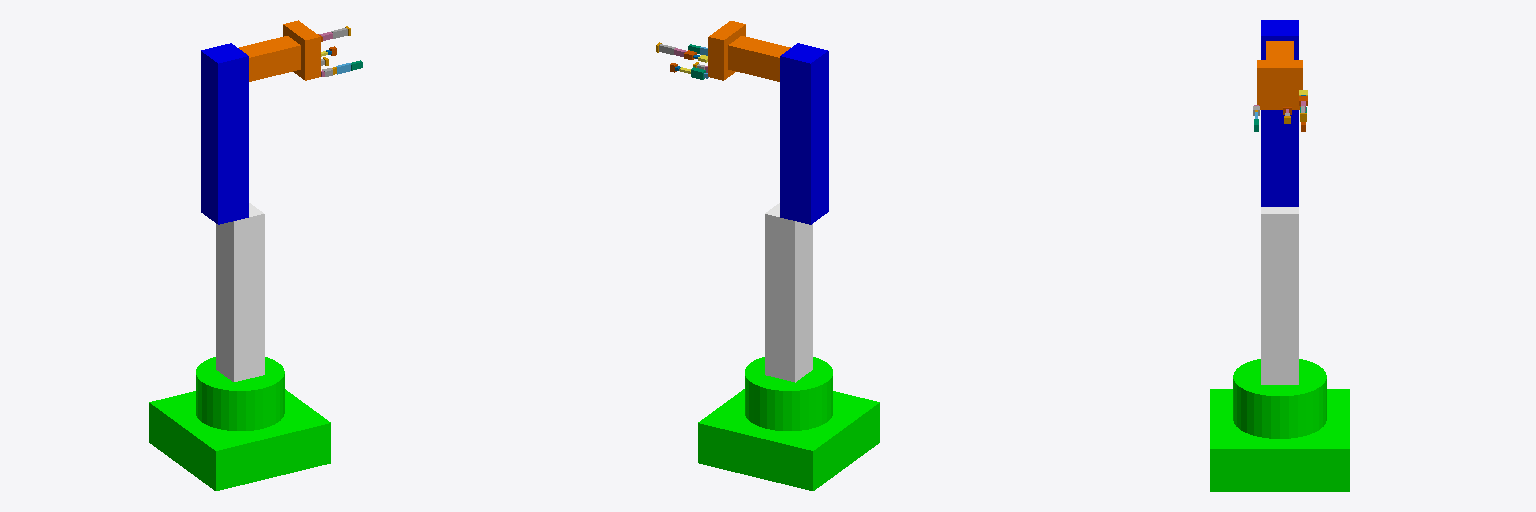
URDF robot description (robot):
<?xml version='1.0' encoding='utf-8'?>
<robot name="robot">
  <link name="base_link">
    <visual>
      <origin xyz="0 0 0.125" rpy="0 0 0" />
      <geometry>
        <box size="0.75 0.75 0.25" />
      </geometry>
      <material name="green" />
    </visual>
    <visual>
      <origin xyz="0 0 0.375" rpy="0 0 0" />
      <geometry>
        <cylinder length="0.25" radius="0.25" />
      </geometry>
      <material name="green">
        <color rgba="0 1 0 1" />
      </material>
    </visual>
    <collision>
      <geometry>
        <box size="0.75 0.75 0.5" />
      </geometry>
    </collision>
    <inertial>
      <mass value="0.5" />
      <inertia ixx="0.034" ixy="0.0" ixz="0.0" iyy="0.034" iyz="0.0" izz="0.034" />
    </inertial>
  </link>
  <link name="support_link">
    <visual>
      <origin xyz="0 0 0.5" rpy="0 0 0" />
      <geometry>
        <box size="0.2 0.2 1" />
      </geometry>
      <material name="white">
        <color rgba="1 1 1 1" />
      </material>
    </visual>
    <collision>
      <geometry>
        <box size="0.2 0.2 1" />
      </geometry>
    </collision>
    <inertial>
      <mass value="0.1" />
      <inertia ixx="0.01" ixy="0.0" ixz="0.0" iyy="0.01" iyz="0.0" izz="0.01" />
    </inertial>
  </link>
  <joint name="support_joint" type="continuous">
    <origin xyz="0 0 0.5" rpy="0 0 0" />
    <parent link="base_link" />
    <child link="support_link" />
    <axis xyz="0 0 1" />
  </joint>
  <link name="arm_link">
    <visual>
      <origin xyz="0 0 0.5" rpy="0 0 0" />
      <geometry>
        <box size="0.2 0.2 1" />
      </geometry>
      <material name="blue">
        <color rgba="0 0 1 1" />
      </material>
    </visual>
    <collision>
      <geometry>
        <box size="0.2 0.2 1" />
      </geometry>
    </collision>
    <inertial>
      <mass value="0.1" />
      <inertia ixx="0.01" ixy="0.0" ixz="0.0" iyy="0.01" iyz="0.0" izz="0.01" />
    </inertial>
  </link>
  <joint name="arm_joint" type="revolute">
    <origin xyz="-0.1 0 1" rpy="0 0 0" />
    <parent link="support_link" />
    <child link="arm_link" />
    <axis xyz="0 1 0" />
    <limit lower="-3.14" upper="3.14" effort="1.0" velocity="1.0" />
  </joint>
  <link name="wrist_link">
    <visual>
      <origin xyz="0 0 0.25" rpy="0 0 0" />
      <geometry>
        <box size="0.15 0.15 0.5" />
      </geometry>
      <material name="orange">
        <color rgba="1 0.5 0 1" />
      </material>
    </visual>
    <collision>
      <geometry>
        <box size="0.15 0.15 0.5" />
      </geometry>
    </collision>
    <inertial>
      <mass value="0.1" />
      <inertia ixx="0.01" ixy="0.0" ixz="0.0" iyy="0.01" iyz="0.0" izz="0.01" />
    </inertial>
  </link>
  <joint name="wrist_joint" type="fixed">
    <origin xyz="0 0 0.9" rpy="0 1.571 0" />
    <parent link="arm_link" />
    <child link="wrist_link" />
  </joint>
  <link name="palm_link">
    <visual>
      <origin xyz="0 0 0.05" rpy="0 0 0" />
      <geometry>
        <box size="0.25 0.25 0.1" />
      </geometry>
      <material name="orange" />
    </visual>
    <collision>
      <geometry>
        <box size="0.25 0.25 0.1" />
      </geometry>
    </collision>
    <inertial>
      <mass value="0.1" />
      <inertia ixx="0.01" ixy="0.0" ixz="0.0" iyy="0.01" iyz="0.0" izz="0.01" />
    </inertial>
  </link>
  <joint name="palm_joint" type="fixed">
    <origin xyz="0 0 0.45" rpy="0 0 0" />
    <parent link="wrist_link" />
    <child link="palm_link" />
  </joint>
  <link name="finger_link_0_0">
    <visual>
      <origin xyz="0 0 0.009" rpy="0 0 0" />
      <geometry>
        <box size="0.042 0.043 0.018" />
      </geometry>
    </visual>
    <collision>
      <geometry>
        <box size="0.042 0.043 0.018" />
      </geometry>
    </collision>
    <inertial>
      <mass value="0.01" />
      <inertia ixx="0.0" iyy="0.0" izz="0.0" ixy="0" ixz="0" iyz="0" />
    </inertial>
  </link>
  <joint name="finger_joint_palm_link_to_finger_link_0_0" type="revolute">
    <origin xyz="0.125 0.04 0.1" rpy="0 0 0" />
    <parent link="palm_link" />
    <child link="finger_link_0_0" />
    <axis xyz="0.0 1.0 0.0" />
    <limit lower="-3.142" upper="3.142" effort="10" velocity="10" />
  </joint>
  <link name="finger_link_0_1">
    <visual>
      <origin xyz="0 0 0.0255" rpy="0 0 0" />
      <geometry>
        <box size="0.037 0.016 0.051" />
      </geometry>
    </visual>
    <collision>
      <geometry>
        <box size="0.037 0.016 0.051" />
      </geometry>
    </collision>
    <inertial>
      <mass value="0.009" />
      <inertia ixx="0.0" iyy="0.0" izz="0.0" ixy="0" ixz="0" iyz="0" />
    </inertial>
  </link>
  <joint name="finger_joint_finger_link_0_0_to_finger_link_0_1" type="revolute">
    <origin xyz="0.0 0.0 0.018" rpy="0 0 0" />
    <parent link="finger_link_0_0" />
    <child link="finger_link_0_1" />
    <axis xyz="1.0 0.0 0.0" />
    <limit lower="-3.142" upper="3.142" effort="10" velocity="10" />
  </joint>
  <link name="finger_link_0_2">
    <visual>
      <origin xyz="0 0 0.025" rpy="0 0 0" />
      <geometry>
        <box size="0.029 0.022 0.05" />
      </geometry>
    </visual>
    <collision>
      <geometry>
        <box size="0.029 0.022 0.05" />
      </geometry>
    </collision>
    <inertial>
      <mass value="0.01" />
      <inertia ixx="0.0" iyy="0.0" izz="0.0" ixy="0" ixz="0" iyz="0" />
    </inertial>
  </link>
  <joint name="finger_joint_finger_link_0_1_to_finger_link_0_2" type="revolute">
    <origin xyz="0.0 0.0 0.051" rpy="0 0 0" />
    <parent link="finger_link_0_1" />
    <child link="finger_link_0_2" />
    <axis xyz="1.0 0.0 0.0" />
    <limit lower="-3.142" upper="3.142" effort="10" velocity="10" />
  </joint>
  <link name="finger_link_0_3">
    <visual>
      <origin xyz="0 0 0.0085" rpy="0 0 0" />
      <geometry>
        <box size="0.039 0.039 0.017" />
      </geometry>
    </visual>
    <collision>
      <geometry>
        <box size="0.039 0.039 0.017" />
      </geometry>
    </collision>
    <inertial>
      <mass value="0.008" />
      <inertia ixx="0.0" iyy="0.0" izz="0.0" ixy="0" ixz="0" iyz="0" />
    </inertial>
  </link>
  <joint name="finger_joint_finger_link_0_2_to_finger_link_0_3" type="revolute">
    <origin xyz="0.0 0.0 0.05" rpy="0 0 0" />
    <parent link="finger_link_0_2" />
    <child link="finger_link_0_3" />
    <axis xyz="1.0 0.0 0.0" />
    <limit lower="-3.142" upper="3.142" effort="10" velocity="10" />
  </joint>
  <link name="finger_link_1_0">
    <visual>
      <origin xyz="0 0 0.0125" rpy="0 0 0" />
      <geometry>
        <box size="0.027 0.017 0.025" />
      </geometry>
    </visual>
    <collision>
      <geometry>
        <box size="0.027 0.017 0.025" />
      </geometry>
    </collision>
    <inertial>
      <mass value="0.003" />
      <inertia ixx="0.0" iyy="0.0" izz="0.0" ixy="0" ixz="0" iyz="0" />
    </inertial>
  </link>
  <joint name="finger_joint_palm_link_to_finger_link_1_0" type="revolute">
    <origin xyz="0.119 0.125 0.1" rpy="0 0 0" />
    <parent link="palm_link" />
    <child link="finger_link_1_0" />
    <axis xyz="-1.0 0.0 0.0" />
    <limit lower="-3.142" upper="3.142" effort="10" velocity="10" />
  </joint>
  <link name="finger_link_1_1">
    <visual>
      <origin xyz="0 0 0.04" rpy="0 0 0" />
      <geometry>
        <box size="0.047 0.038 0.08" />
      </geometry>
    </visual>
    <collision>
      <geometry>
        <box size="0.047 0.038 0.08" />
      </geometry>
    </collision>
    <inertial>
      <mass value="0.043" />
      <inertia ixx="0.0" iyy="0.0" izz="0.0" ixy="0" ixz="0" iyz="0" />
    </inertial>
  </link>
  <joint name="finger_joint_finger_link_1_0_to_finger_link_1_1" type="revolute">
    <origin xyz="0.0 0.0 0.025" rpy="0 0 0" />
    <parent link="finger_link_1_0" />
    <child link="finger_link_1_1" />
    <axis xyz="0.0 1.0 0.0" />
    <limit lower="-3.142" upper="3.142" effort="10" velocity="10" />
  </joint>
  <link name="finger_link_1_2">
    <visual>
      <origin xyz="0 0 0.039" rpy="0 0 0" />
      <geometry>
        <box size="0.015 0.027 0.078" />
      </geometry>
    </visual>
    <collision>
      <geometry>
        <box size="0.015 0.027 0.078" />
      </geometry>
    </collision>
    <inertial>
      <mass value="0.009" />
      <inertia ixx="0.0" iyy="0.0" izz="0.0" ixy="0" ixz="0" iyz="0" />
    </inertial>
  </link>
  <joint name="finger_joint_finger_link_1_1_to_finger_link_1_2" type="revolute">
    <origin xyz="0.0 0.0 0.08" rpy="0 0 0" />
    <parent link="finger_link_1_1" />
    <child link="finger_link_1_2" />
    <axis xyz="1.0 0.0 0.0" />
    <limit lower="-3.142" upper="3.142" effort="10" velocity="10" />
  </joint>
  <link name="finger_link_1_3">
    <visual>
      <origin xyz="0 0 0.0125" rpy="0 0 0" />
      <geometry>
        <box size="0.018 0.027 0.025" />
      </geometry>
    </visual>
    <collision>
      <geometry>
        <box size="0.018 0.027 0.025" />
      </geometry>
    </collision>
    <inertial>
      <mass value="0.004" />
      <inertia ixx="0.0" iyy="0.0" izz="0.0" ixy="0" ixz="0" iyz="0" />
    </inertial>
  </link>
  <joint name="finger_joint_finger_link_1_2_to_finger_link_1_3" type="revolute">
    <origin xyz="0.0 0.0 0.078" rpy="0 0 0" />
    <parent link="finger_link_1_2" />
    <child link="finger_link_1_3" />
    <axis xyz="1.0 0.0 0.0" />
    <limit lower="-3.142" upper="3.142" effort="10" velocity="10" />
  </joint>
  <link name="finger_link_1_4">
    <visual>
      <origin xyz="0 0 0.0175" rpy="0 0 0" />
      <geometry>
        <box size="0.043 0.028 0.035" />
      </geometry>
    </visual>
    <collision>
      <geometry>
        <box size="0.043 0.028 0.035" />
      </geometry>
    </collision>
    <inertial>
      <mass value="0.013" />
      <inertia ixx="0.0" iyy="0.0" izz="0.0" ixy="0" ixz="0" iyz="0" />
    </inertial>
  </link>
  <joint name="finger_joint_finger_link_1_3_to_finger_link_1_4" type="revolute">
    <origin xyz="0.0 0.0 0.025" rpy="0 0 0" />
    <parent link="finger_link_1_3" />
    <child link="finger_link_1_4" />
    <axis xyz="0.0 1.0 0.0" />
    <limit lower="-3.142" upper="3.142" effort="10" velocity="10" />
  </joint>
  <link name="finger_link_2_0">
    <visual>
      <origin xyz="0 0 0.009" rpy="0 0 0" />
      <geometry>
        <box size="0.031 0.023 0.018" />
      </geometry>
    </visual>
    <collision>
      <geometry>
        <box size="0.031 0.023 0.018" />
      </geometry>
    </collision>
    <inertial>
      <mass value="0.004" />
      <inertia ixx="0.0" iyy="0.0" izz="0.0" ixy="0" ixz="0" iyz="0" />
    </inertial>
  </link>
  <joint name="finger_joint_palm_link_to_finger_link_2_0" type="revolute">
    <origin xyz="0.107 -0.125 0.1" rpy="0 0 0" />
    <parent link="palm_link" />
    <child link="finger_link_2_0" />
    <axis xyz="1.0 0.0 0.0" />
    <limit lower="-3.142" upper="3.142" effort="10" velocity="10" />
  </joint>
  <link name="finger_link_2_1">
    <visual>
      <origin xyz="0 0 0.027" rpy="0 0 0" />
      <geometry>
        <box size="0.034 0.036 0.054" />
      </geometry>
    </visual>
    <collision>
      <geometry>
        <box size="0.034 0.036 0.054" />
      </geometry>
    </collision>
    <inertial>
      <mass value="0.02" />
      <inertia ixx="0.0" iyy="0.0" izz="0.0" ixy="0" ixz="0" iyz="0" />
    </inertial>
  </link>
  <joint name="finger_joint_finger_link_2_0_to_finger_link_2_1" type="revolute">
    <origin xyz="0.0 0.0 0.018" rpy="0 0 0" />
    <parent link="finger_link_2_0" />
    <child link="finger_link_2_1" />
    <axis xyz="1.0 0.0 0.0" />
    <limit lower="-3.142" upper="3.142" effort="10" velocity="10" />
  </joint>
  <link name="finger_link_2_2">
    <visual>
      <origin xyz="0 0 0.0155" rpy="0 0 0" />
      <geometry>
        <box size="0.037 0.019 0.031" />
      </geometry>
    </visual>
    <collision>
      <geometry>
        <box size="0.037 0.019 0.031" />
      </geometry>
    </collision>
    <inertial>
      <mass value="0.007" />
      <inertia ixx="0.0" iyy="0.0" izz="0.0" ixy="0" ixz="0" iyz="0" />
    </inertial>
  </link>
  <joint name="finger_joint_finger_link_2_1_to_finger_link_2_2" type="revolute">
    <origin xyz="0.0 0.0 0.054" rpy="0 0 0" />
    <parent link="finger_link_2_1" />
    <child link="finger_link_2_2" />
    <axis xyz="1.0 0.0 0.0" />
    <limit lower="-3.142" upper="3.142" effort="10" velocity="10" />
  </joint>
  <link name="finger_link_2_3">
    <visual>
      <origin xyz="0 0 0.045" rpy="0 0 0" />
      <geometry>
        <box size="0.045 0.019 0.09" />
      </geometry>
    </visual>
    <collision>
      <geometry>
        <box size="0.045 0.019 0.09" />
      </geometry>
    </collision>
    <inertial>
      <mass value="0.023" />
      <inertia ixx="0.0" iyy="0.0" izz="0.0" ixy="0" ixz="0" iyz="0" />
    </inertial>
  </link>
  <joint name="finger_joint_finger_link_2_2_to_finger_link_2_3" type="revolute">
    <origin xyz="0.0 0.0 0.031" rpy="0 0 0" />
    <parent link="finger_link_2_2" />
    <child link="finger_link_2_3" />
    <axis xyz="1.0 0.0 0.0" />
    <limit lower="-3.142" upper="3.142" effort="10" velocity="10" />
  </joint>
  <link name="finger_link_2_4">
    <visual>
      <origin xyz="0 0 0.037" rpy="0 0 0" />
      <geometry>
        <box size="0.038 0.023 0.074" />
      </geometry>
    </visual>
    <collision>
      <geometry>
        <box size="0.038 0.023 0.074" />
      </geometry>
    </collision>
    <inertial>
      <mass value="0.019" />
      <inertia ixx="0.0" iyy="0.0" izz="0.0" ixy="0" ixz="0" iyz="0" />
    </inertial>
  </link>
  <joint name="finger_joint_finger_link_2_3_to_finger_link_2_4" type="revolute">
    <origin xyz="0.0 0.0 0.09" rpy="0 0 0" />
    <parent link="finger_link_2_3" />
    <child link="finger_link_2_4" />
    <axis xyz="1.0 0.0 0.0" />
    <limit lower="-3.142" upper="3.142" effort="10" velocity="10" />
  </joint>
  <link name="finger_link_3_0">
    <visual>
      <origin xyz="0 0 0.0265" rpy="0 0 0" />
      <geometry>
        <box size="0.019 0.049 0.053" />
      </geometry>
    </visual>
    <collision>
      <geometry>
        <box size="0.019 0.049 0.053" />
      </geometry>
    </collision>
    <inertial>
      <mass value="0.015" />
      <inertia ixx="0.0" iyy="0.0" izz="0.0" ixy="0" ixz="0" iyz="0" />
    </inertial>
  </link>
  <joint name="finger_joint_palm_link_to_finger_link_3_0" type="revolute">
    <origin xyz="0.017 0.125 0.1" rpy="0 0 0" />
    <parent link="palm_link" />
    <child link="finger_link_3_0" />
    <axis xyz="-1.0 0.0 0.0" />
    <limit lower="-3.142" upper="3.142" effort="10" velocity="10" />
  </joint>
  <link name="finger_link_3_1">
    <visual>
      <origin xyz="0 0 0.0185" rpy="0 0 0" />
      <geometry>
        <box size="0.011 0.026 0.037" />
      </geometry>
    </visual>
    <collision>
      <geometry>
        <box size="0.011 0.026 0.037" />
      </geometry>
    </collision>
    <inertial>
      <mass value="0.003" />
      <inertia ixx="0.0" iyy="0.0" izz="0.0" ixy="0" ixz="0" iyz="0" />
    </inertial>
  </link>
  <joint name="finger_joint_finger_link_3_0_to_finger_link_3_1" type="revolute">
    <origin xyz="0.0 0.0 0.053" rpy="0 0 0" />
    <parent link="finger_link_3_0" />
    <child link="finger_link_3_1" />
    <axis xyz="1.0 0.0 0.0" />
    <limit lower="-3.142" upper="3.142" effort="10" velocity="10" />
  </joint>
  <link name="finger_link_3_2">
    <visual>
      <origin xyz="0 0 0.0265" rpy="0 0 0" />
      <geometry>
        <box size="0.031 0.05 0.053" />
      </geometry>
    </visual>
    <collision>
      <geometry>
        <box size="0.031 0.05 0.053" />
      </geometry>
    </collision>
    <inertial>
      <mass value="0.025" />
      <inertia ixx="0.0" iyy="0.0" izz="0.0" ixy="0" ixz="0" iyz="0" />
    </inertial>
  </link>
  <joint name="finger_joint_finger_link_3_1_to_finger_link_3_2" type="revolute">
    <origin xyz="0.0 0.0 0.037" rpy="0 0 0" />
    <parent link="finger_link_3_1" />
    <child link="finger_link_3_2" />
    <axis xyz="0.0 1.0 0.0" />
    <limit lower="-3.142" upper="3.142" effort="10" velocity="10" />
  </joint>
  <link name="finger_link_3_3">
    <visual>
      <origin xyz="0 0 0.037" rpy="0 0 0" />
      <geometry>
        <box size="0.033 0.027 0.074" />
      </geometry>
    </visual>
    <collision>
      <geometry>
        <box size="0.033 0.027 0.074" />
      </geometry>
    </collision>
    <inertial>
      <mass value="0.02" />
      <inertia ixx="0.0" iyy="0.0" izz="0.0" ixy="0" ixz="0" iyz="0" />
    </inertial>
  </link>
  <joint name="finger_joint_finger_link_3_2_to_finger_link_3_3" type="revolute">
    <origin xyz="0.0 0.0 0.053" rpy="0 0 0" />
    <parent link="finger_link_3_2" />
    <child link="finger_link_3_3" />
    <axis xyz="1.0 0.0 0.0" />
    <limit lower="-3.142" upper="3.142" effort="10" velocity="10" />
  </joint>
  <link name="finger_link_3_4">
    <visual>
      <origin xyz="0 0 0.048" rpy="0 0 0" />
      <geometry>
        <box size="0.041 0.021 0.096" />
      </geometry>
    </visual>
    <collision>
      <geometry>
        <box size="0.041 0.021 0.096" />
      </geometry>
    </collision>
    <inertial>
      <mass value="0.025" />
      <inertia ixx="0.0" iyy="0.0" izz="0.0" ixy="0" ixz="0" iyz="0" />
    </inertial>
  </link>
  <joint name="finger_joint_finger_link_3_3_to_finger_link_3_4" type="revolute">
    <origin xyz="0.0 0.0 0.074" rpy="0 0 0" />
    <parent link="finger_link_3_3" />
    <child link="finger_link_3_4" />
    <axis xyz="1.0 0.0 0.0" />
    <limit lower="-3.142" upper="3.142" effort="10" velocity="10" />
  </joint>
  <link name="finger_link_3_5">
    <visual>
      <origin xyz="0 0 0.008" rpy="0 0 0" />
      <geometry>
        <box size="0.044 0.041 0.016" />
      </geometry>
    </visual>
    <collision>
      <geometry>
        <box size="0.044 0.041 0.016" />
      </geometry>
    </collision>
    <inertial>
      <mass value="0.009" />
      <inertia ixx="0.0" iyy="0.0" izz="0.0" ixy="0" ixz="0" iyz="0" />
    </inertial>
  </link>
  <joint name="finger_joint_finger_link_3_4_to_finger_link_3_5" type="revolute">
    <origin xyz="0.0 0.0 0.096" rpy="0 0 0" />
    <parent link="finger_link_3_4" />
    <child link="finger_link_3_5" />
    <axis xyz="1.0 0.0 0.0" />
    <limit lower="-3.142" upper="3.142" effort="10" velocity="10" />
  </joint>
</robot>

--- Facts derived from the render (not from the file) ---
3 views of the same robot in one strip: view 1: azimuth 30°, elevation 25°; view 2: azimuth 150°, elevation 25°; view 3: azimuth 270°, elevation 25° (orthographic).
Model robot with 25 links and 24 joints (21 revolute, 1 continuous, 2 fixed), rooted at base_link, posed all joints at 0.
Visible links, largest first — view 1: base_link, arm_link, support_link, wrist_link, palm_link; view 2: base_link, arm_link, support_link, wrist_link, palm_link; view 3: base_link, support_link, arm_link, palm_link, wrist_link.
Link boxes in pixels (x1,y1,x2,y2): base_link: (149,357,330,490); arm_link: (201,43,248,224); support_link: (216,203,264,381); wrist_link: (239,36,300,81); palm_link: (283,20,320,80); base_link: (698,357,879,490); arm_link: (780,43,828,224); support_link: (765,203,812,382); wrist_link: (728,36,790,81); palm_link: (708,21,745,80); base_link: (1210,359,1349,491); support_link: (1261,207,1298,384); arm_link: (1261,20,1298,206); palm_link: (1257,60,1302,109); wrist_link: (1266,41,1293,59).
Bounding box of the posed robot: 1.15 × 0.75 × 2.52 m (x, y, z).
Geometry: primitives only (box / cylinder / sphere), no mesh files.